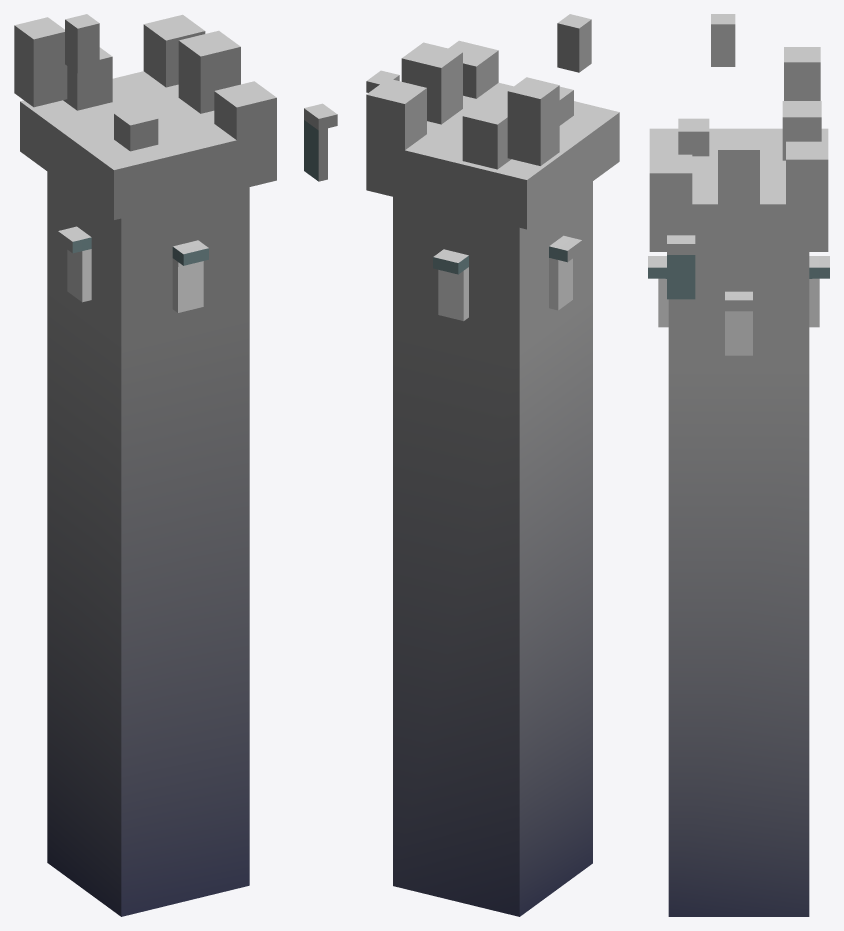
The model's file is decoration_castletower01.fbx.
3 renders of one model, left to right at view 1: azimuth 30°, elevation 25°; view 2: azimuth 150°, elevation 25°; view 3: azimuth 270°, elevation 25°, orthographic. The views are drawn at different scales.
Visible parts, largest first — view 1: tower2.001; view 2: tower2.001; view 3: tower2.001.
Boxes of the visible parts, bbox=[...] form: tower2.001: bbox=[14, 14, 337, 916]; tower2.001: bbox=[366, 14, 619, 916]; tower2.001: bbox=[648, 14, 829, 916].
Size of the model in its own units: 892 by 3085 by 610.
